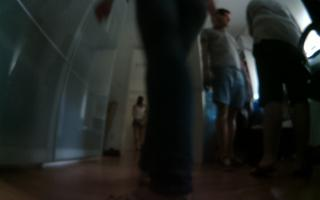person: (92, 1, 219, 200), (245, 1, 311, 176), (198, 7, 253, 172), (129, 94, 149, 157)
